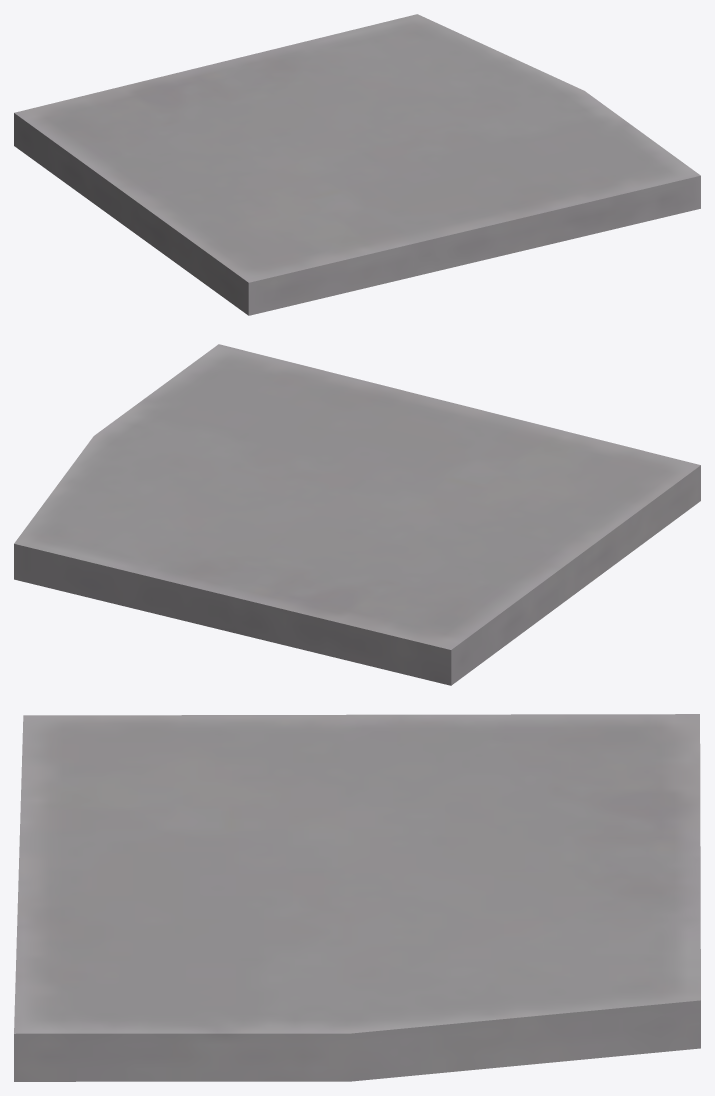
Rendered from Pfb_MetalBoard__4.fbx.
3 views of the same model, one above another, from view 1: azimuth 30°, elevation 25°; view 2: azimuth 150°, elevation 25°; view 3: azimuth 270°, elevation 25° (orthographic). The views are drawn at different scales.
Visible parts, largest first — view 1: Mat_MetalBoard_01_1 _Ground; view 2: Mat_MetalBoard_01_1 _Ground; view 3: Mat_MetalBoard_01_1 _Ground.
Boxes of the visible parts, bbox=[...] form: Mat_MetalBoard_01_1 _Ground: bbox=[14, 14, 700, 315]; Mat_MetalBoard_01_1 _Ground: bbox=[14, 344, 700, 685]; Mat_MetalBoard_01_1 _Ground: bbox=[14, 714, 700, 1081].
Size of the model in its own units: 0.6004 by 0.0421 by 0.5452.
Materials: 1 (1 with a texture image).
